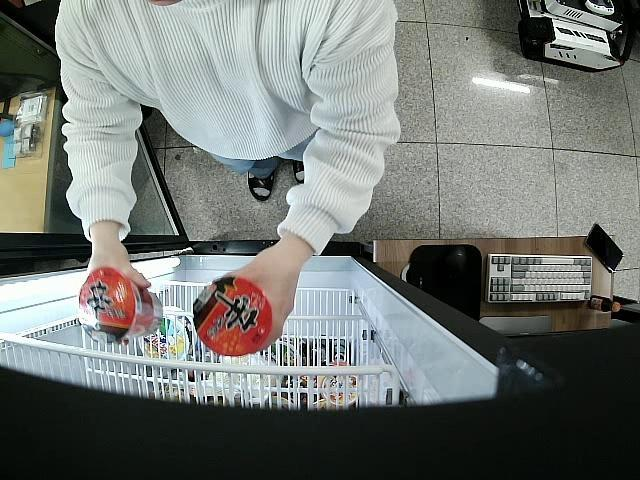02_shinRamen_S: (193, 278, 272, 358), (79, 268, 164, 341)
